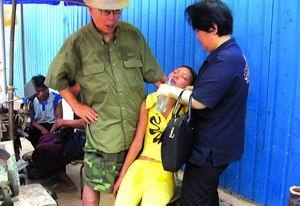falling: (112, 61, 188, 203)
